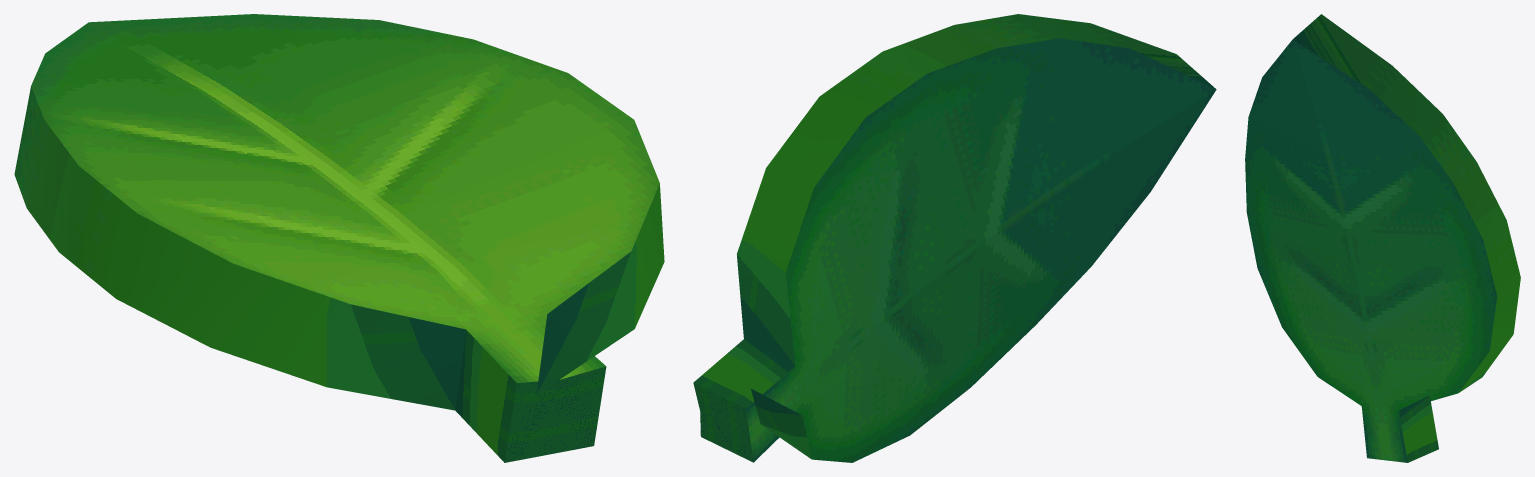
Rendered from ps2_save-icons_greengreendynamic.glb.
The picture shows the model from 3 angles, left to right: view 1: azimuth 30°, elevation 25°; view 2: azimuth 150°, elevation 25°; view 3: azimuth 270°, elevation 25°; orthographic projection. The views are drawn at different scales.
Visible parts, largest first — view 1: HAPPA00.ICO; view 2: HAPPA00.ICO; view 3: HAPPA00.ICO.
Boxes of the visible parts, x1,y1,x2,y2 form: HAPPA00.ICO: (14,14,664,462); HAPPA00.ICO: (693,14,1216,462); HAPPA00.ICO: (1245,14,1520,462).
Size of the model in its own units: 3.73 by 3.59 by 2.78.
Materials: 1 (1 with a texture image).
